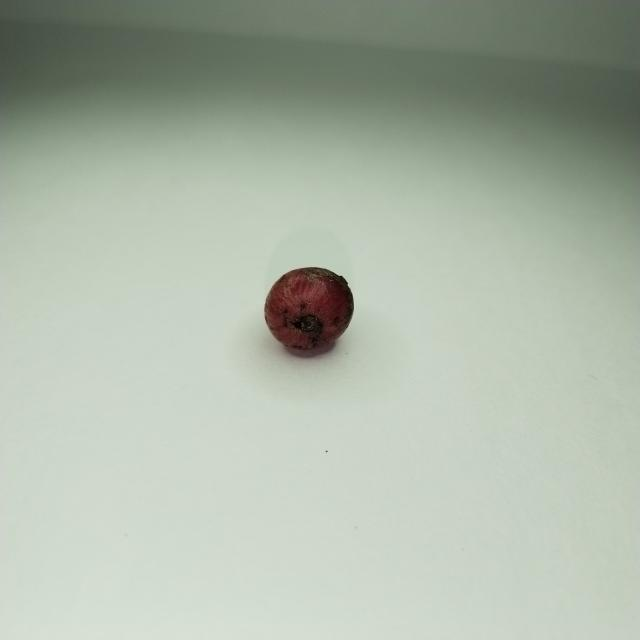Infectado: (263, 267, 356, 359)
